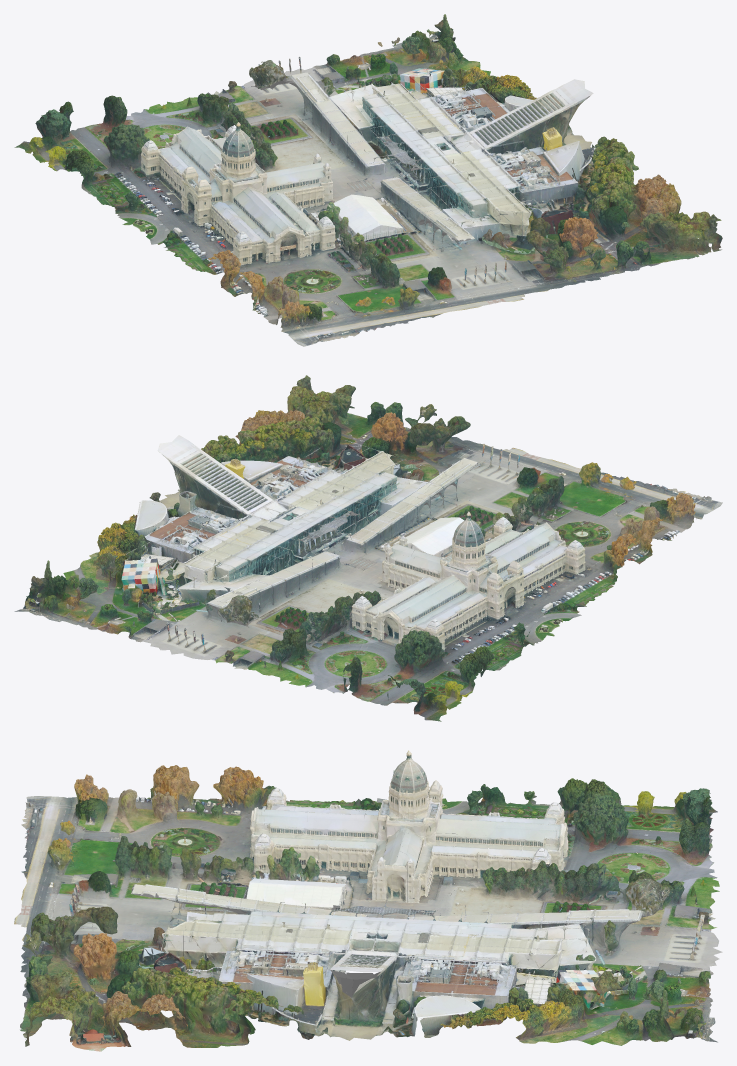
File: Environment2.glb
3 views of the same model, one above another, from view 1: azimuth 30°, elevation 25°; view 2: azimuth 150°, elevation 25°; view 3: azimuth 270°, elevation 25° (orthographic). The views are drawn at different scales.
Size of the model in its own units: 318 by 66.27 by 378.
Materials: 109 (109 with a texture image).
